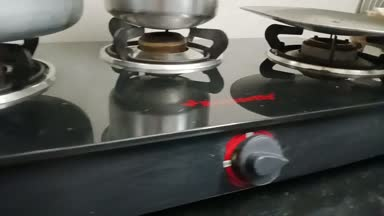flame_gas_off: (106, 23, 292, 190)
